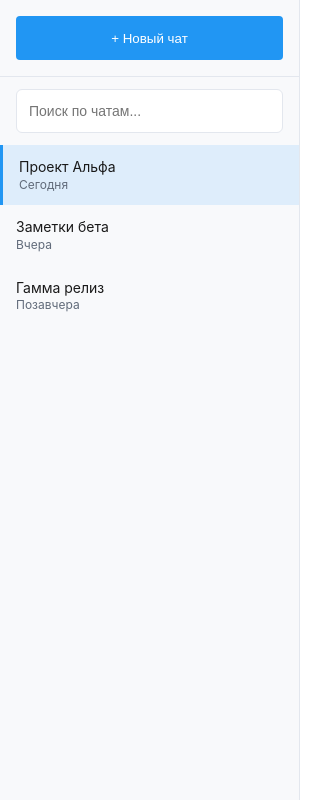
it: Sidebar › фильтрует список чатов по названию при вводе в поиск
This screenshot has width=320, height=800.
expect the text "Проект Альфа" is shown: met, box [19, 157, 116, 177]
expect the text "Заметки бета" is shown: met, box [16, 217, 109, 237]
Type "бета" into the search field named "Поиск по названию чата" at (150, 111), box [16, 89, 283, 133]
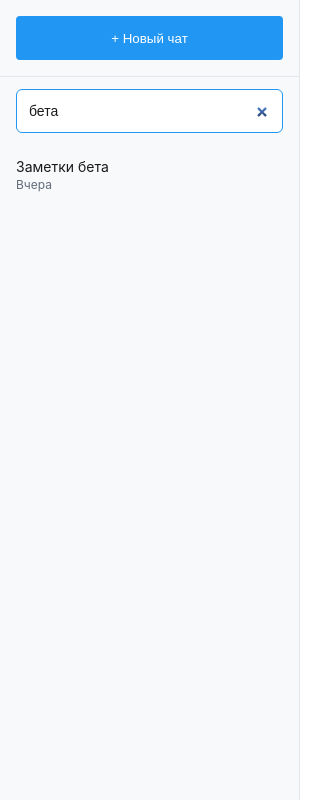
expect the text "Заметки бета" is shown: met, box [16, 157, 109, 177]
expect the button "Проект Альфа" is gone: met
